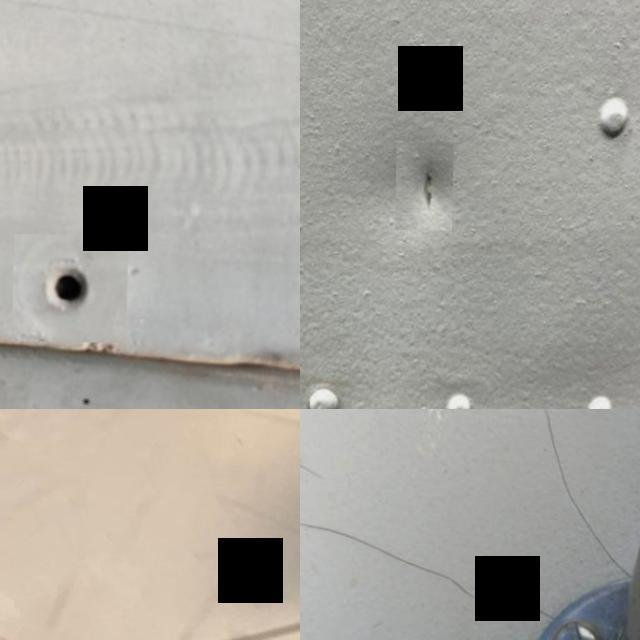Crack: (300, 517, 558, 616), (542, 409, 638, 585), (300, 456, 326, 482)
Dent: (398, 140, 455, 229)
Missing_Fastener: (14, 233, 130, 342)
